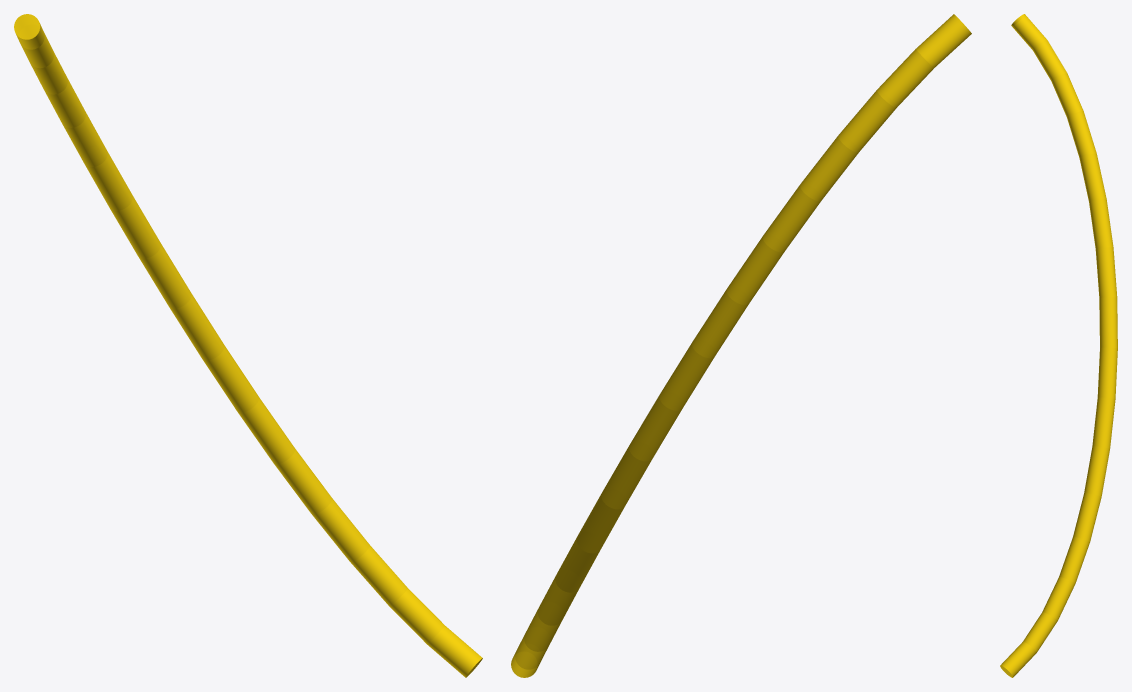
File: Event_421115418_track_130.fbx
3 renders of one model, left to right at view 1: azimuth 30°, elevation 25°; view 2: azimuth 150°, elevation 25°; view 3: azimuth 270°, elevation 25°, orthographic. The views are drawn at different scales.
Parts seen in each view (by area): view 1: Model; view 2: Model; view 3: Model.
Boxes of the visible parts, x1,y1,x2,y2 form: Model: (14,14,482,677); Model: (511,14,971,677); Model: (1000,14,1117,677).
Bounding box in the file's own units: 0.8038 × 1.28 × 0.2625.
